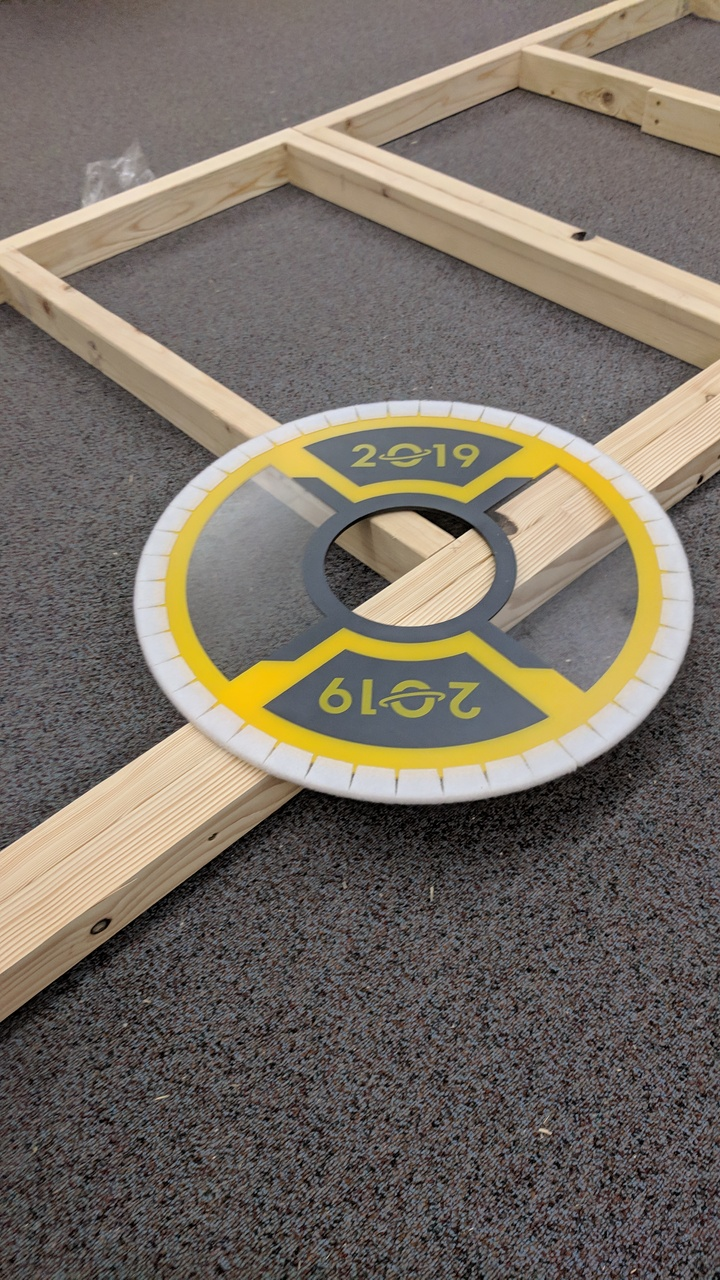hatch_panel: (125, 395, 705, 832)
